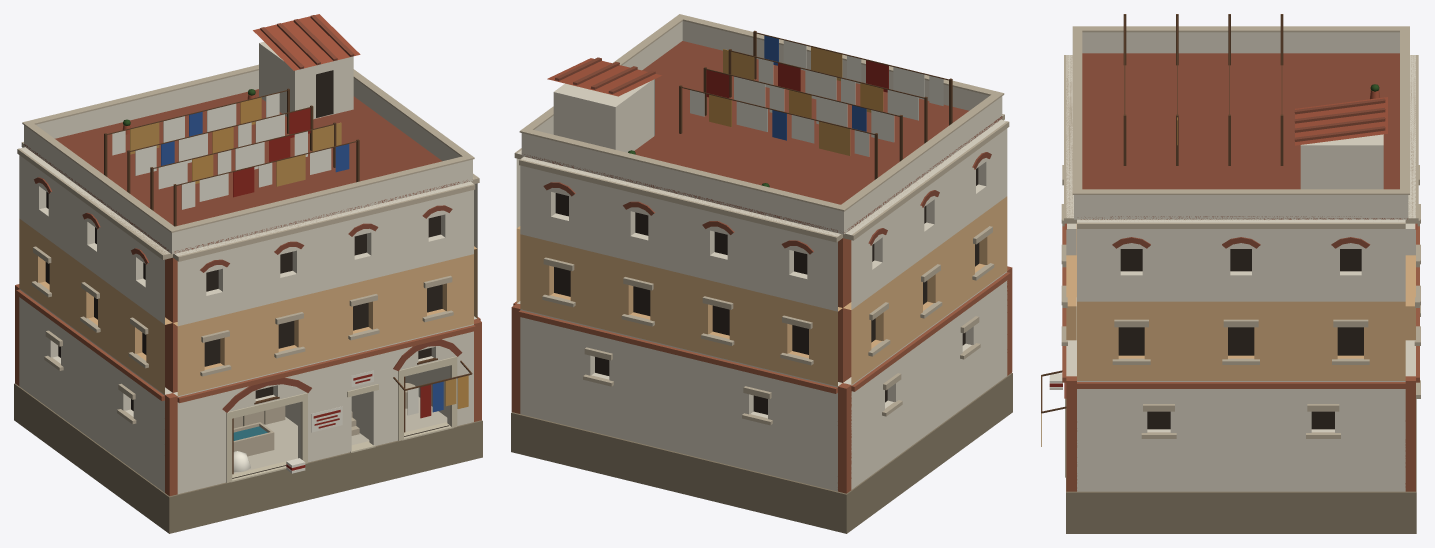
File: rome_insula_i.glb
The picture shows the model from 3 angles, left to right: view 1: azimuth 30°, elevation 25°; view 2: azimuth 150°, elevation 25°; view 3: azimuth 270°, elevation 25°; orthographic projection. The views are drawn at different scales.
Visible parts, largest first — view 1: rome_insula_i; view 2: rome_insula_i; view 3: rome_insula_i.
Boxes of the visible parts, box(x1,y1,x2,y2) form: rome_insula_i: box(14, 14, 482, 533); rome_insula_i: box(511, 14, 1012, 533); rome_insula_i: box(1041, 14, 1420, 533).
Size of the model in its own units: 14.36 by 14.83 by 13.07.
